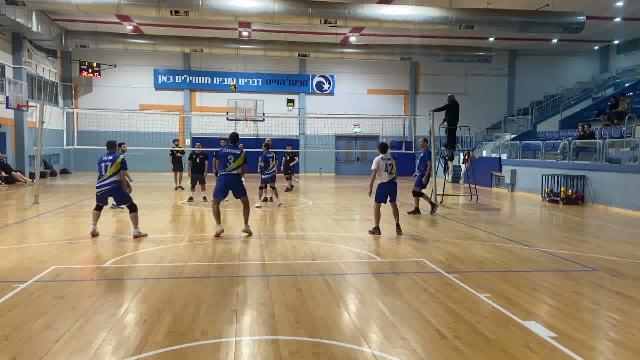ball: (229, 82, 241, 93)
